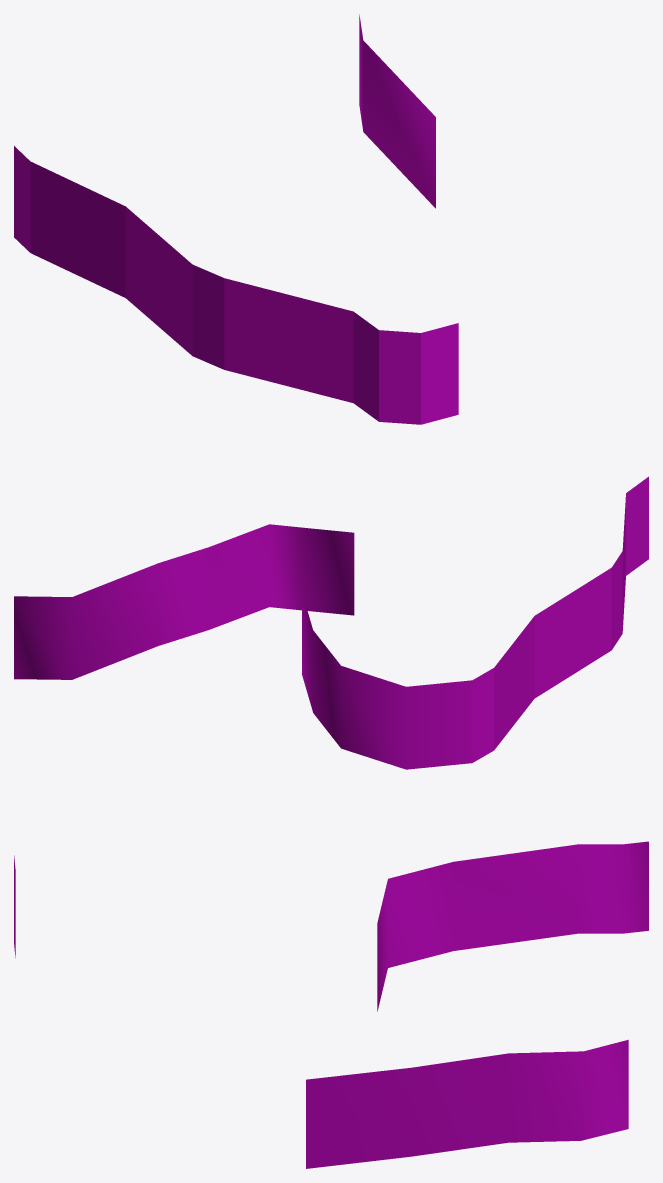
File: M9_Zone1_CliffPoly2.glb
3 views of the same model, one above another, from view 1: azimuth 30°, elevation 25°; view 2: azimuth 150°, elevation 25°; view 3: azimuth 270°, elevation 25° (orthographic). The views are drawn at different scales.
Parts seen in each view (by area): view 1: M9_ZONE1_CLIFFPOLY2; view 2: M9_ZONE1_CLIFFPOLY2; view 3: M9_ZONE1_CLIFFPOLY2.
Part boxes in pixels (<box>): M9_ZONE1_CLIFFPOLY2: <box>14,14,458,424</box>; M9_ZONE1_CLIFFPOLY2: <box>14,476,648,769</box>; M9_ZONE1_CLIFFPOLY2: <box>14,841,648,1168</box>.
Size of the model in its own units: 93.57 by 32.74 by 103.
